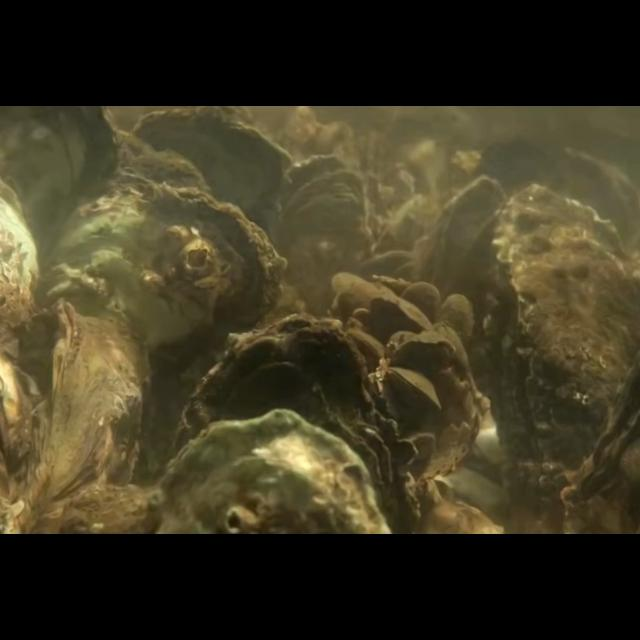Oyster-Closed: (54, 180, 288, 458), (178, 312, 418, 534), (20, 298, 150, 534), (154, 409, 392, 535), (426, 176, 510, 330), (370, 294, 432, 330), (392, 338, 456, 370), (400, 280, 440, 328), (440, 292, 472, 344)
Oyster-Open: (482, 184, 640, 481), (270, 154, 366, 296), (386, 367, 440, 409)
